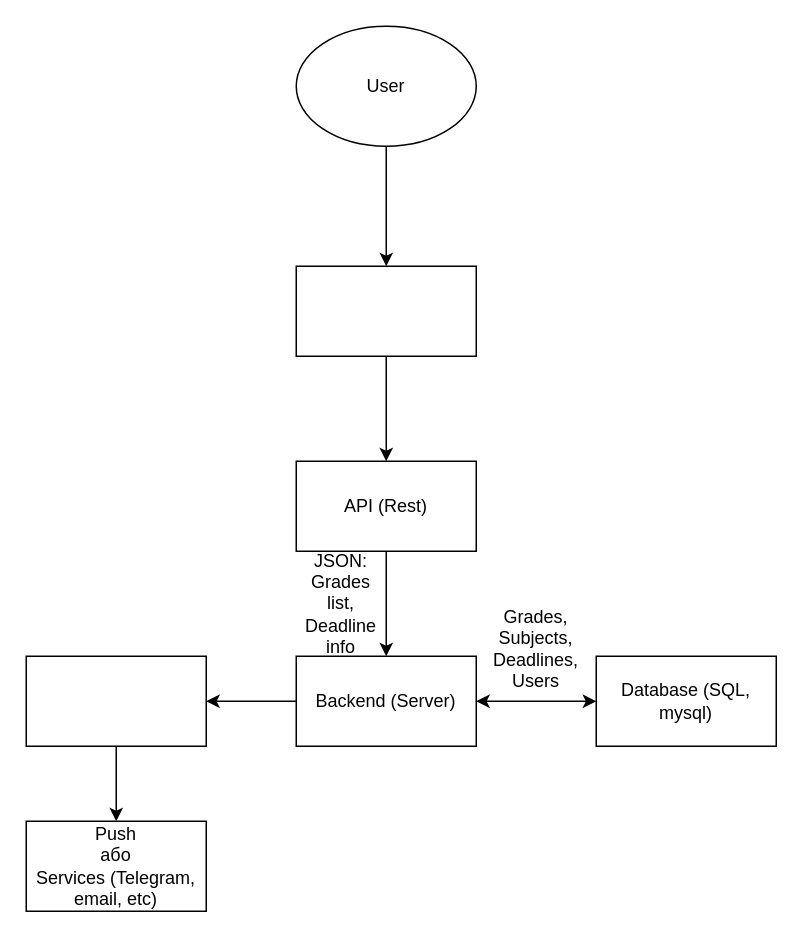
Some shapes in this 803 by 938 pixel diagram are drawn without their labels. Each missing label, with the centre of its shape:
"Frontend" belongs at [385,310].
"Notification Service" belongs at [115,700].
